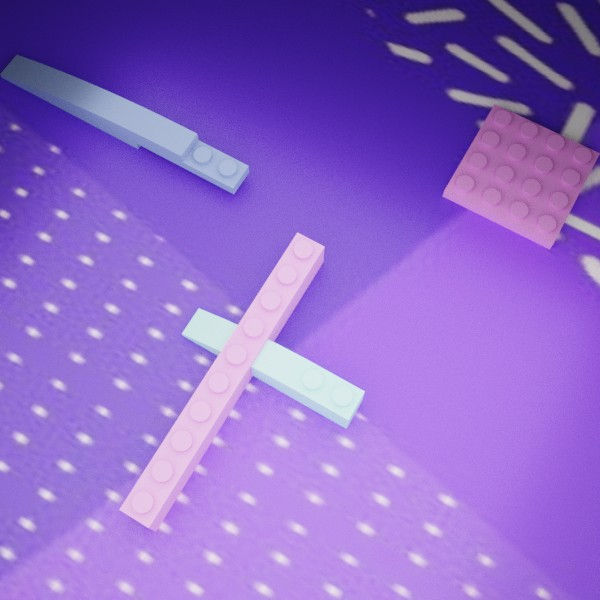lego: (119, 232, 324, 531), (0, 54, 249, 194), (442, 104, 600, 249), (181, 308, 364, 428)
